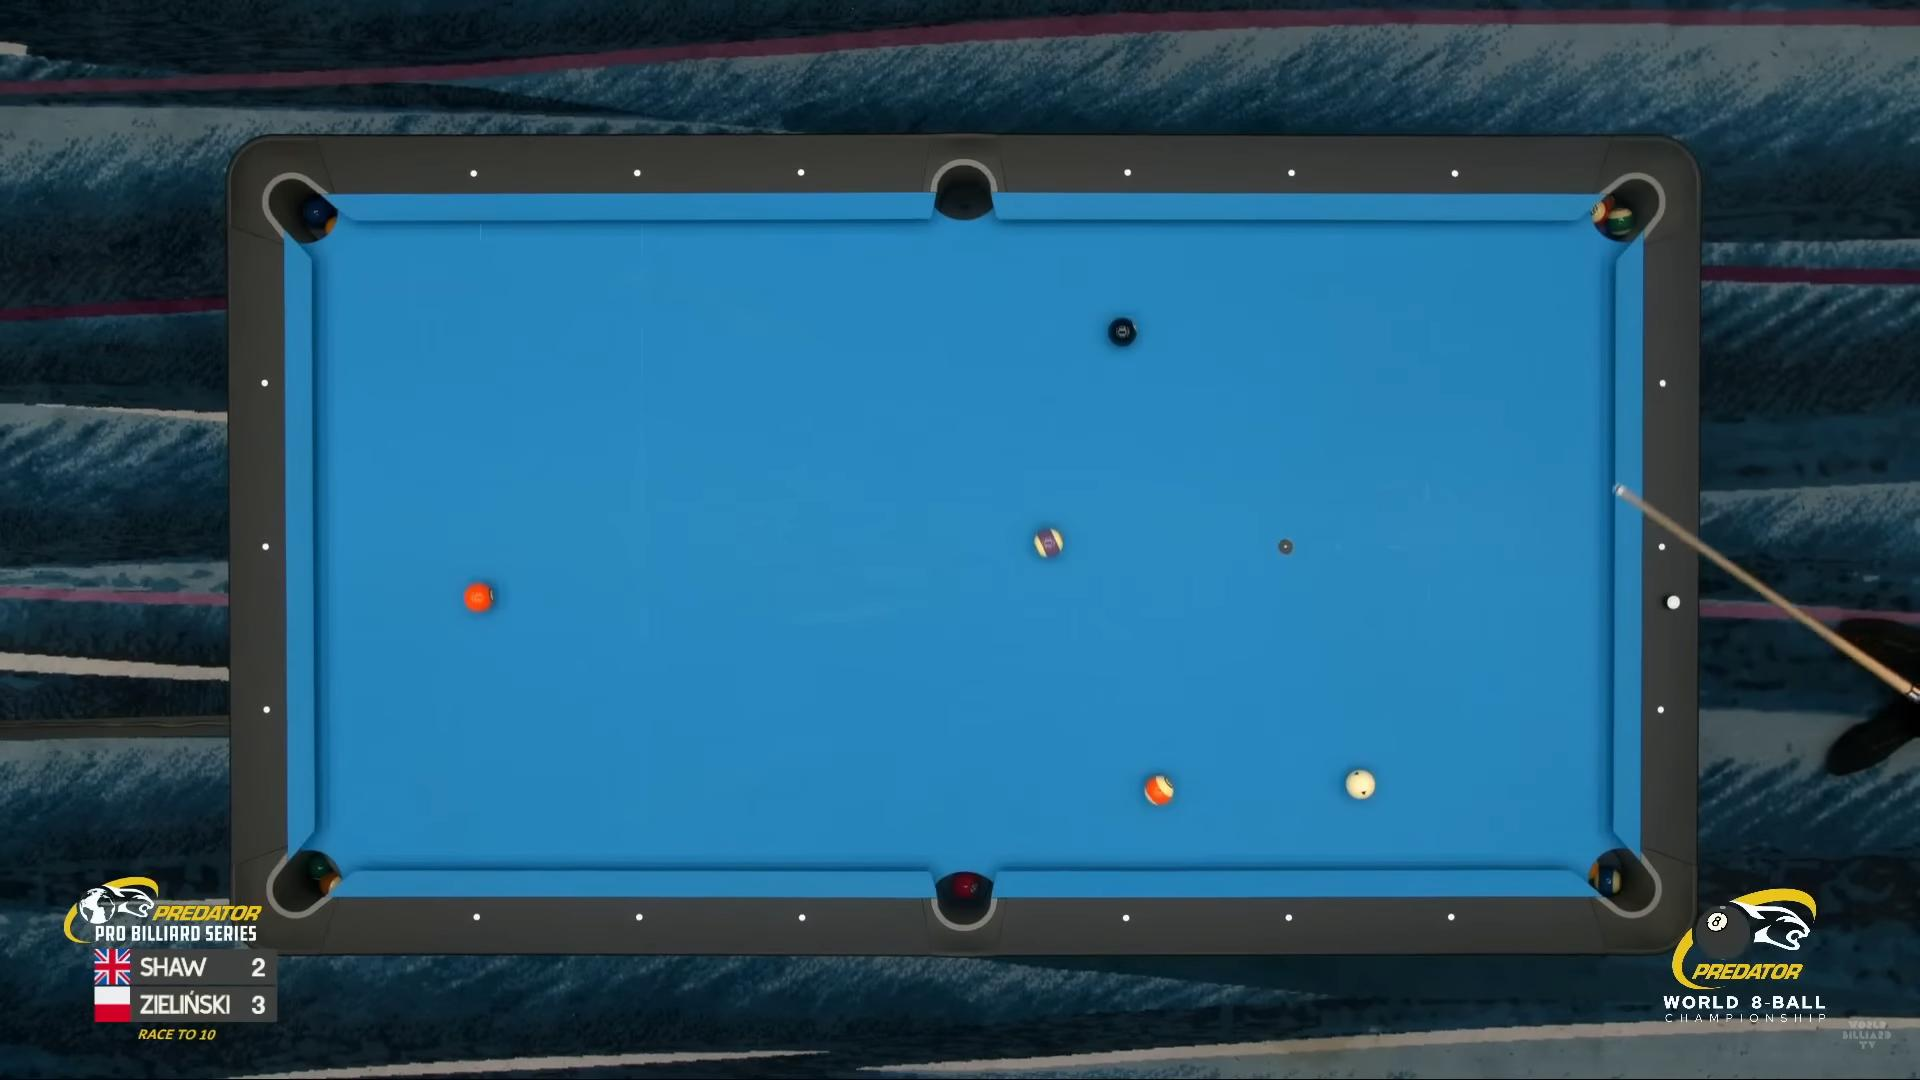Black: (1108, 316, 1137, 345)
Cue: (1345, 770, 1375, 800)
Dot: (258, 703, 273, 717), (258, 539, 273, 554), (257, 377, 272, 392), (1121, 165, 1135, 179), (1284, 166, 1299, 181), (1655, 541, 1669, 555), (632, 910, 646, 924), (469, 910, 484, 924), (467, 166, 480, 181), (630, 166, 645, 179), (794, 166, 808, 179), (1656, 377, 1669, 392), (1655, 703, 1668, 717), (1445, 910, 1458, 924), (1282, 910, 1295, 924), (1118, 911, 1133, 924), (795, 911, 808, 926), (1448, 167, 1461, 181)
Solid: (464, 583, 495, 612)
Striped: (1033, 526, 1065, 559), (1145, 774, 1175, 806)
